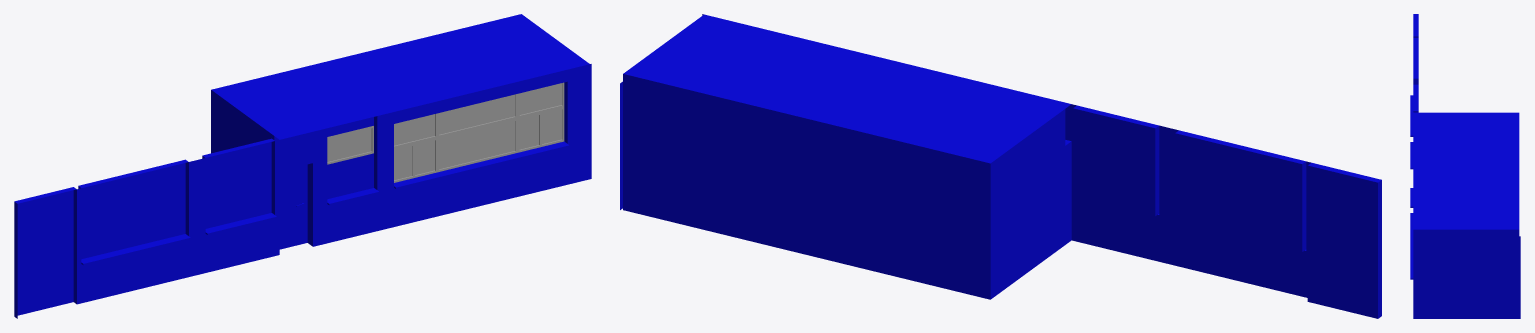
Rendered from de aquí hay que borrar la estructura de la conserjería para dejar solo ventanas y puertas.fbx.
The picture shows the model from 3 angles, left to right: view 1: azimuth 30°, elevation 25°; view 2: azimuth 150°, elevation 25°; view 3: azimuth 270°, elevation 25°; orthographic projection. The views are drawn at different scales.
Visible parts, largest first — view 1: conserjeriaBASE, marcoscon1; view 2: conserjeriaBASE; view 3: conserjeriaBASE.
Boxes of the visible parts, <box> form: conserjeriaBASE: <box>14,14,591,318</box>; marcoscon1: <box>279,82,564,249</box>; conserjeriaBASE: <box>620,14,1381,318</box>; conserjeriaBASE: <box>1410,14,1520,318</box>.
Bounding box in the file's own units: 1513 × 290 × 326.
